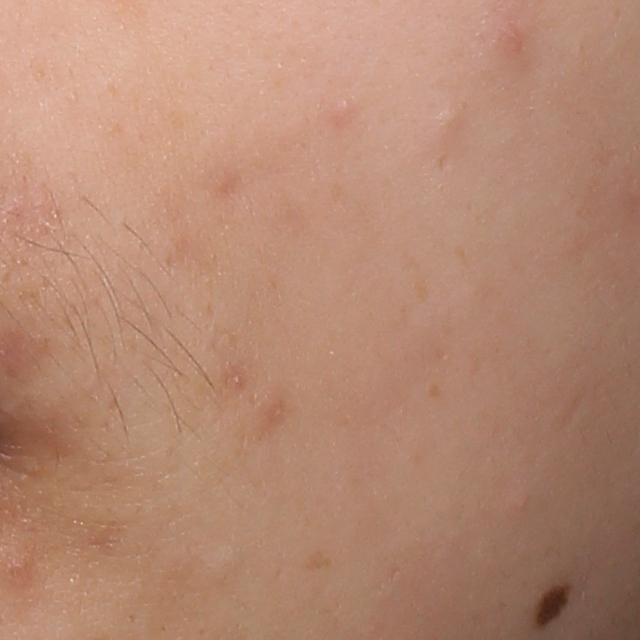comedo: (432, 102, 467, 135), (334, 93, 362, 119), (513, 489, 536, 516)
nevus: (533, 585, 571, 632)
